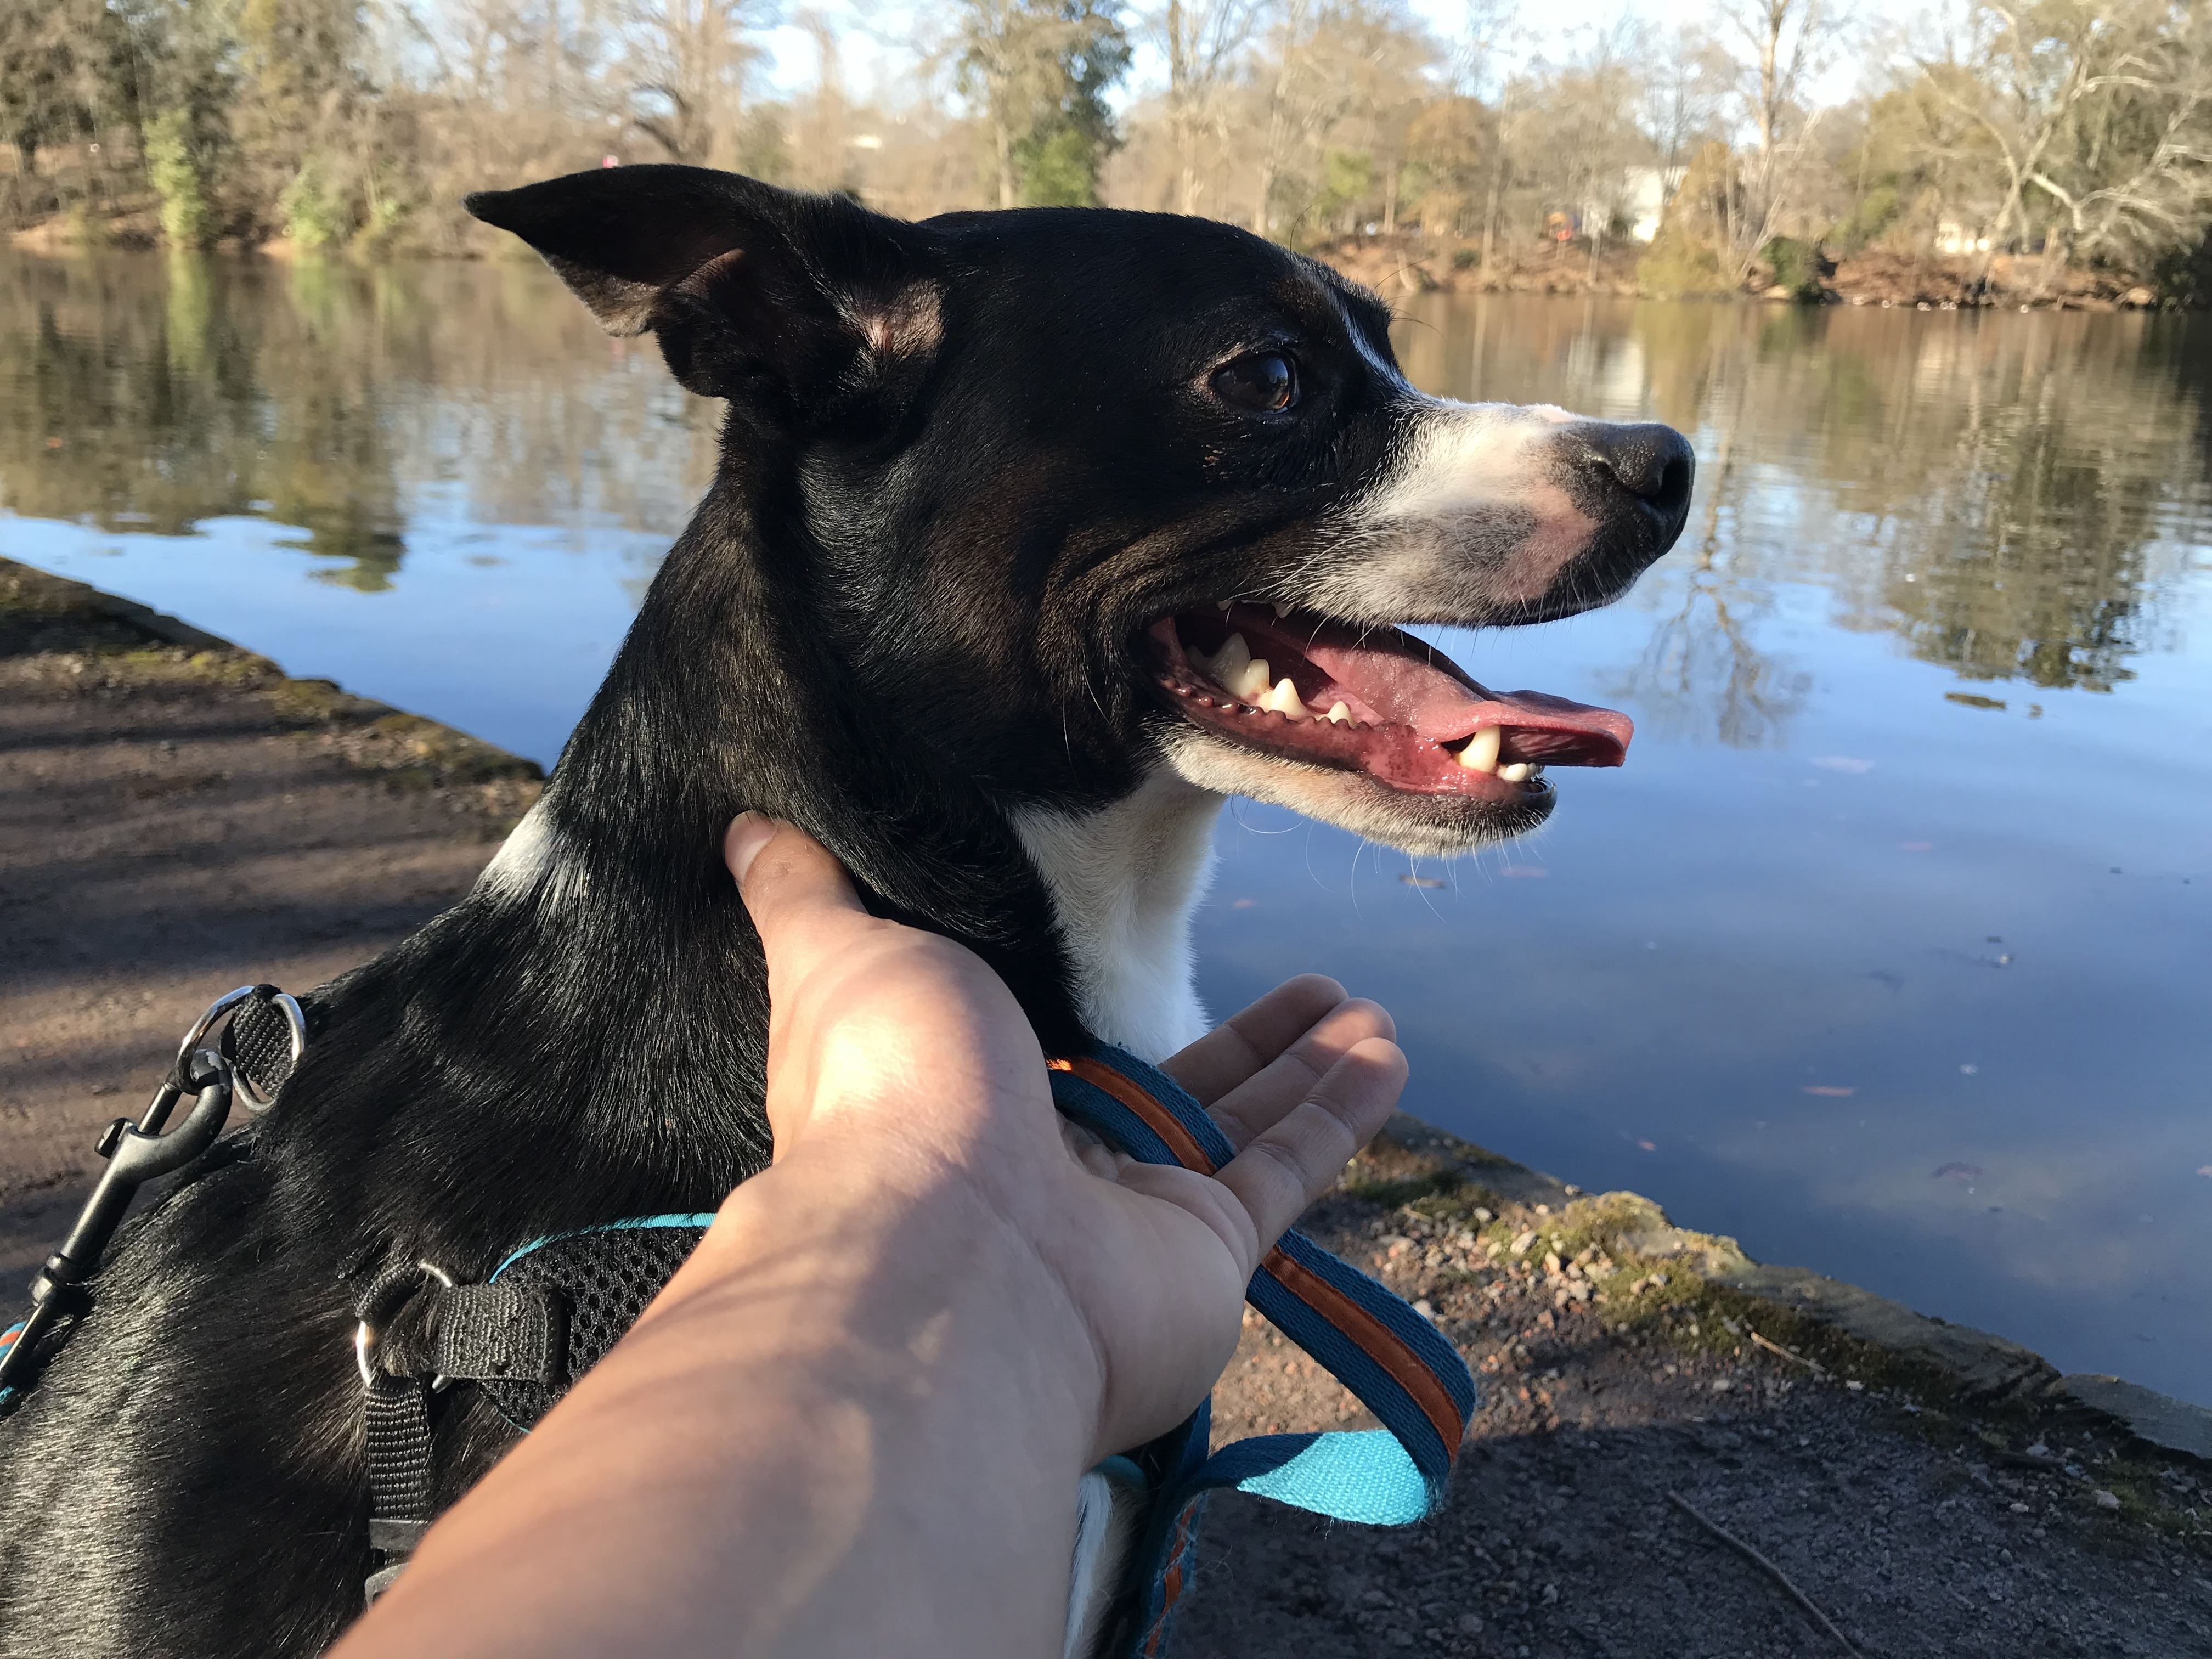Harley: (456, 145, 1719, 957)
